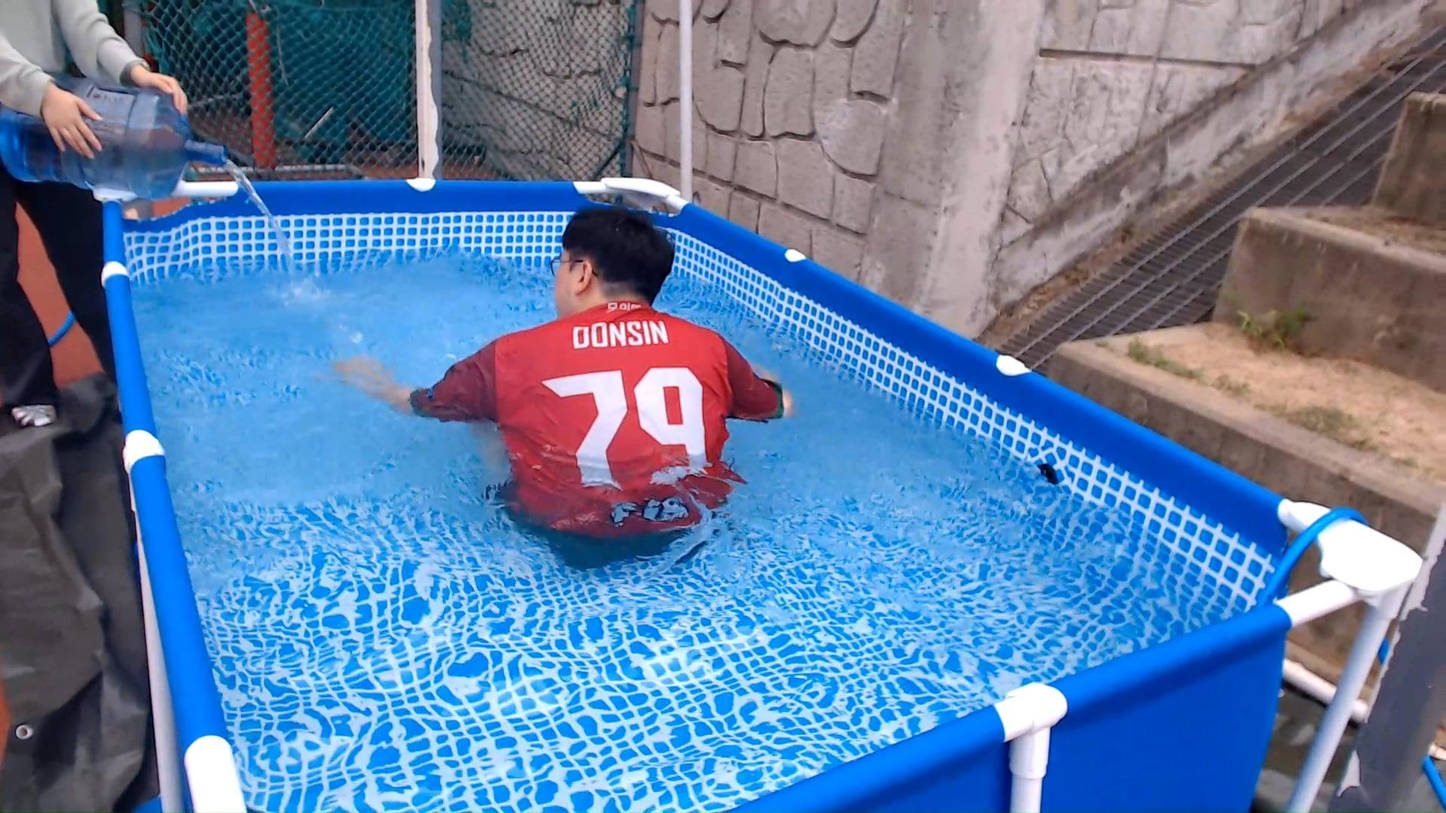Swimming: (282, 119, 851, 565)
